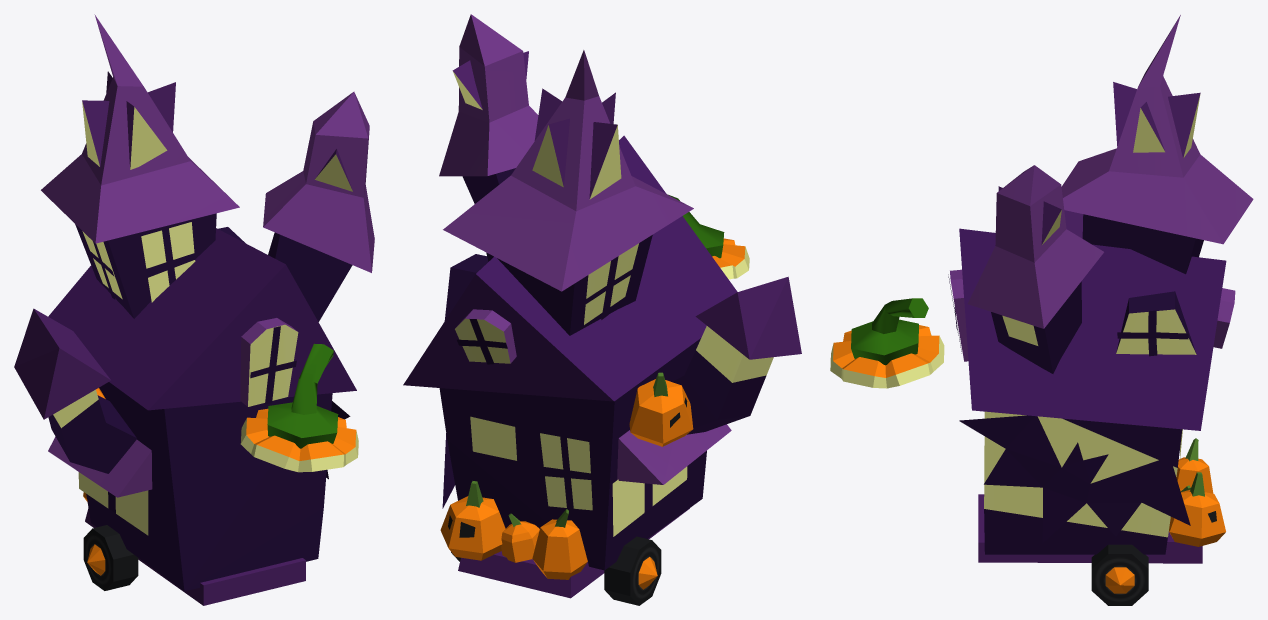
The model's file is cargo_Halloween.fbx.
The picture shows the model from 3 angles, left to right: view 1: azimuth 30°, elevation 25°; view 2: azimuth 150°, elevation 25°; view 3: azimuth 270°, elevation 25°; orthographic projection. The views are drawn at different scales.
Parts seen in each view (by area): view 1: cargo_Halloween; view 2: cargo_Halloween; view 3: cargo_Halloween.
Boxes of the visible parts, bbox=[...] form: cargo_Halloween: bbox=[14, 14, 374, 605]; cargo_Halloween: bbox=[403, 14, 801, 605]; cargo_Halloween: bbox=[830, 15, 1253, 605].
Size of the model in its own units: 2526 by 3871 by 2832.
